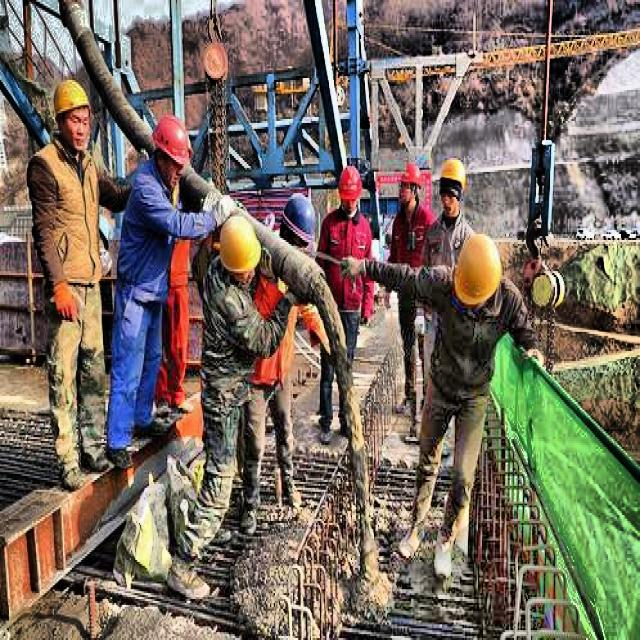helmet: (447, 234, 505, 320), (211, 213, 265, 285), (148, 113, 193, 189), (52, 74, 95, 150), (279, 187, 322, 256), (434, 154, 468, 224), (394, 158, 426, 209), (338, 164, 364, 216)
